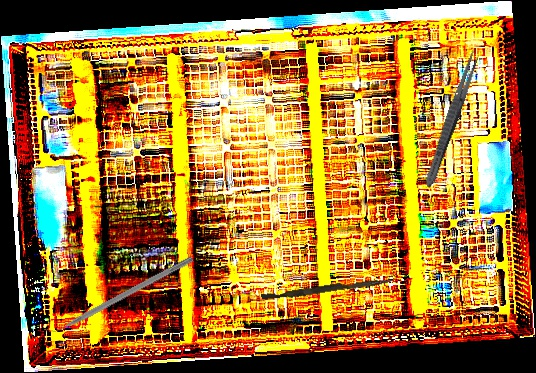Chopper: (42, 248, 194, 339)
Dressing Forceps: (421, 47, 483, 190)
Pusher: (261, 273, 394, 304)
